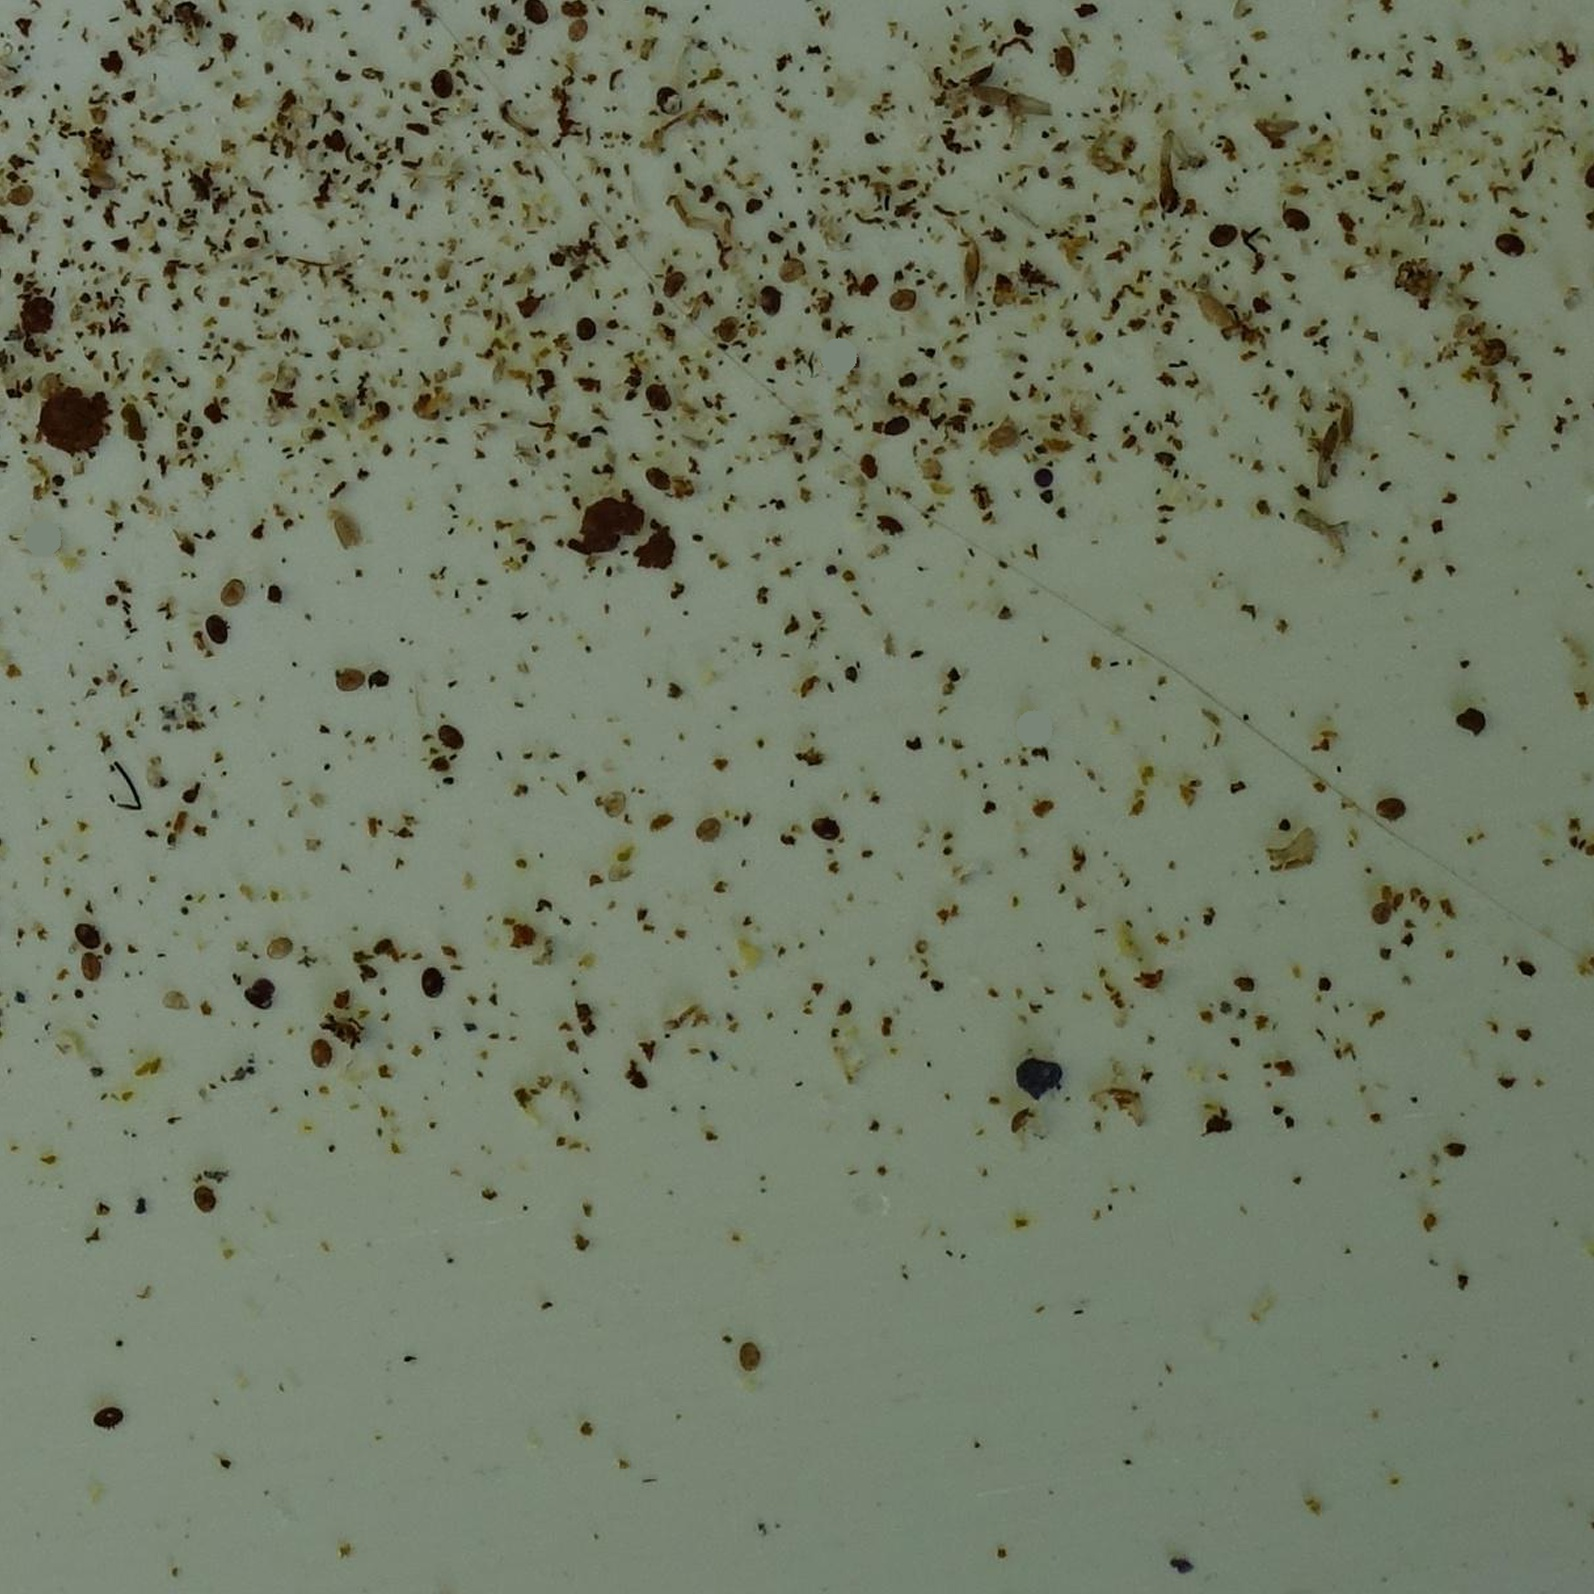Varroa: (847, 447, 889, 488), (692, 815, 721, 845), (709, 312, 740, 342), (340, 669, 369, 696), (1050, 47, 1077, 74), (1158, 188, 1184, 217), (312, 1038, 339, 1066), (642, 384, 669, 412), (1377, 794, 1403, 820), (660, 267, 686, 293), (761, 295, 785, 323), (647, 469, 671, 496), (204, 619, 229, 645), (1212, 222, 1239, 245), (819, 820, 844, 845), (193, 1191, 217, 1216), (439, 731, 463, 758), (743, 1347, 766, 1371), (1282, 216, 1305, 239), (658, 88, 682, 111), (419, 969, 441, 993), (566, 318, 588, 342), (882, 407, 905, 429), (429, 74, 451, 96), (895, 288, 917, 309), (1485, 344, 1506, 366), (77, 953, 99, 975), (763, 274, 785, 296), (80, 923, 101, 944), (247, 984, 269, 1004), (9, 178, 29, 199), (98, 1406, 117, 1425), (1503, 238, 1521, 255)
